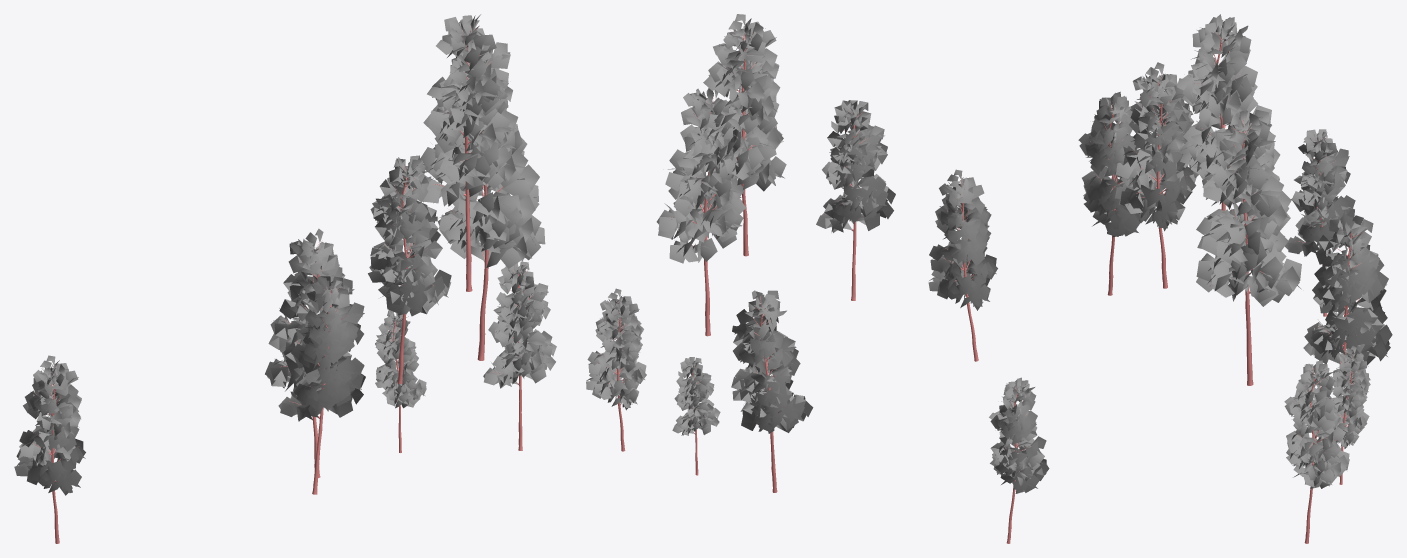
File: Woods_Dawn_Trees_02.gltf
3 renders of one model, left to right at view 1: azimuth 30°, elevation 25°; view 2: azimuth 150°, elevation 25°; view 3: azimuth 270°, elevation 25°, orthographic. The views are drawn at different scales.
Visible parts, largest first — view 1: Woods_Dawn_Trees_02; view 2: Woods_Dawn_Trees_02; view 3: Woods_Dawn_Trees_02.
Part boxes in pixels (left/top/right/bottom): Woods_Dawn_Trees_02: left=14, top=14, right=556, bottom=543; Woods_Dawn_Trees_02: left=586, top=14, right=1049, bottom=543; Woods_Dawn_Trees_02: left=1078, top=14, right=1392, bottom=543.
Size of the model in its own units: 158 by 140 by 83.44.
